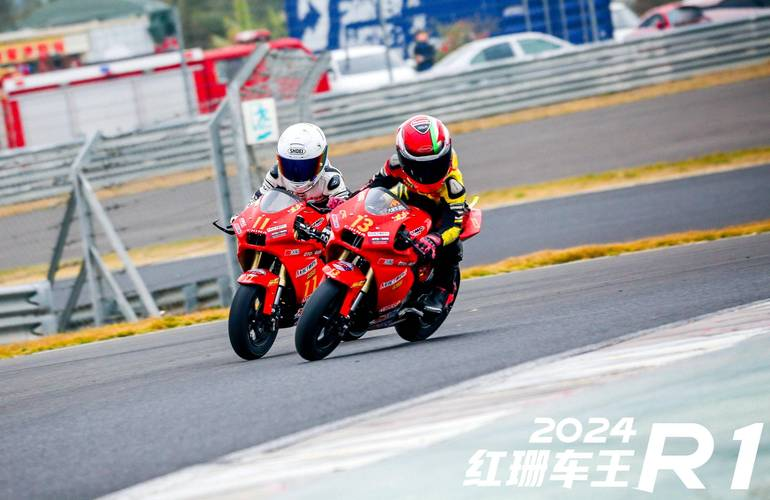摩托车: (296, 194, 434, 363)
